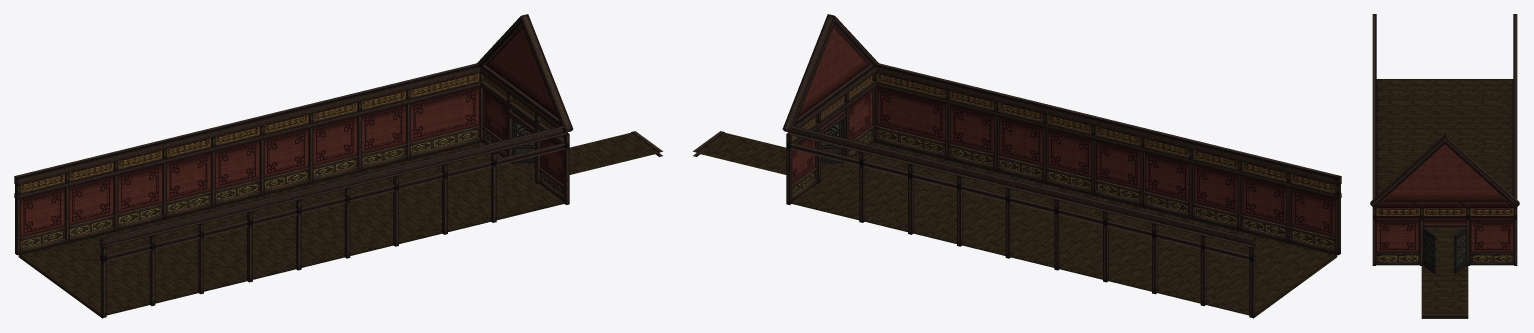
Rendered from EnvBdgMD_Desert_A_TreasureRoom_Indoor.FBX.
3 views of the same model, side by side, from view 1: azimuth 30°, elevation 25°; view 2: azimuth 150°, elevation 25°; view 3: azimuth 270°, elevation 25° (orthographic). The views are drawn at different scales.
Visible parts, largest first — view 1: EnvBdgMD_Desert_A_TreasureRoom_Indoor; view 2: EnvBdgMD_Desert_A_TreasureRoom_Indoor; view 3: EnvBdgMD_Desert_A_TreasureRoom_Indoor.
Boxes of the visible parts, <box> form: EnvBdgMD_Desert_A_TreasureRoom_Indoor: <box>14,14,662,318</box>; EnvBdgMD_Desert_A_TreasureRoom_Indoor: <box>693,14,1341,318</box>; EnvBdgMD_Desert_A_TreasureRoom_Indoor: <box>1370,14,1519,318</box>.
Bounding box in the file's own units: 4850 × 1265 × 1287.
